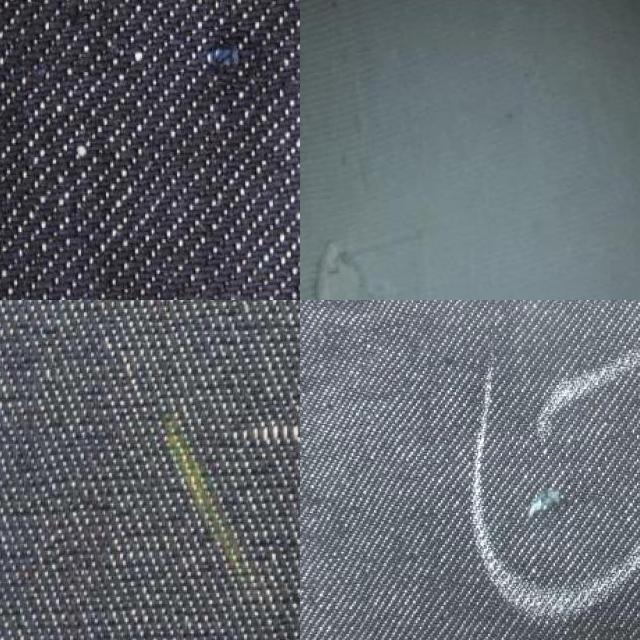other: (306, 240, 375, 300)
stains: (198, 305, 300, 471), (500, 435, 630, 563), (158, 0, 284, 109)
